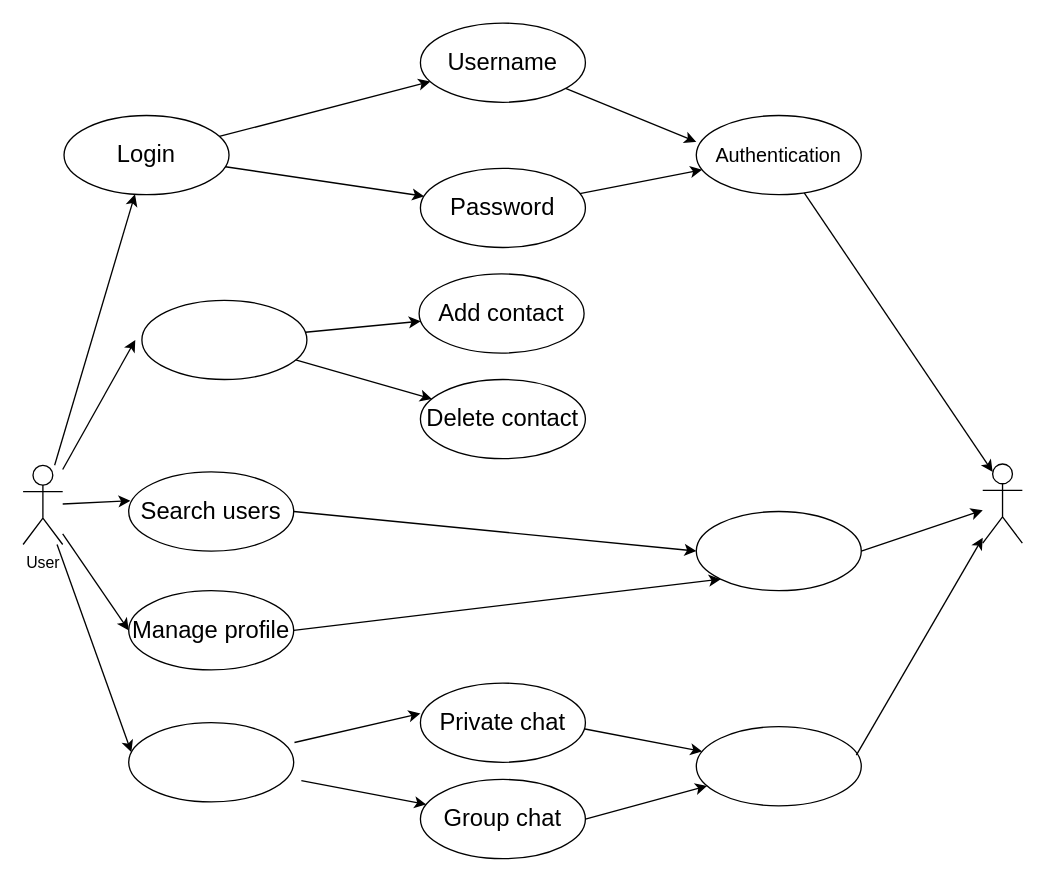
The diagram is 1052 pixels wide and 882 high, and some of its shapes have lost their labels. Here are the shapes that lost their labels. From the top down, the centre of each, then its label:
At (x=224, y=339): "Contacts".
At (x=1001, y=503): "System".
At (x=778, y=550): "Users database".
At (x=210, y=761): "Chats".
At (x=778, y=765): "Chat history".
